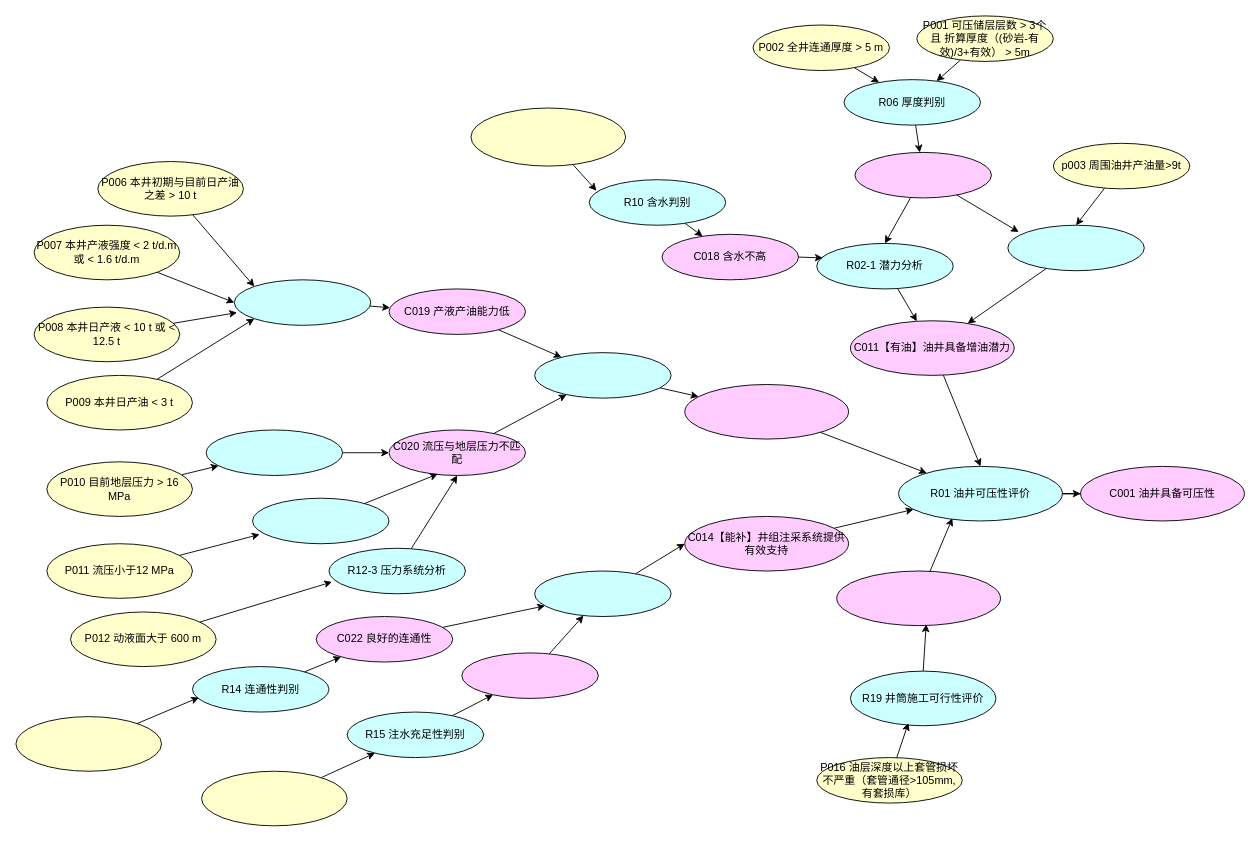
Image size: 1260x842. Some labels were removed from this diagram. Here are the shapes that lost their labels. From the top down, the centre of each, then its label:
the point at 548,136: P005 本井含水 < 70%
the point at 922,175: C015 储层厚度足够
the point at 1075,247: R02-2 潜力分析
the point at 302,302: R11 生产能力判别
the point at 602,375: R03 低效判别
the point at 766,411: C012【可动】当前生产动态显示低效特征
the point at 274,452: R12-1 压力系统分析
the point at 320,520: R12-2 压力系统分析
the point at 602,593: R05 注采系统评价
the point at 918,598: C013【安全】井筒状况完好允许安全施工
the point at 529,675: C023 充足的注水保障
the point at 88,743: P013 与本井连通水井（井距<350米）开井数 > 2 口
the point at 274,798: P015 与本井连通水井配注完成率 > 80%（提出水井配套措施）
